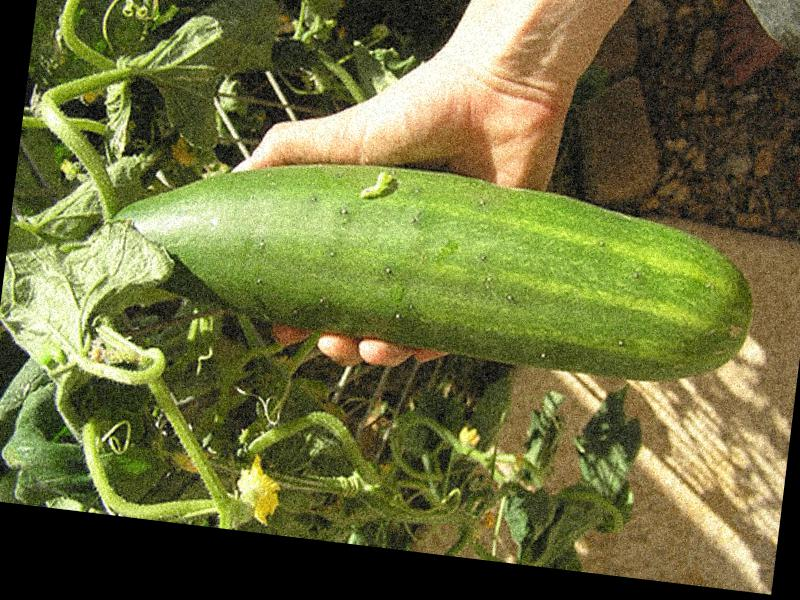Cucumber: (93, 134, 764, 394)
